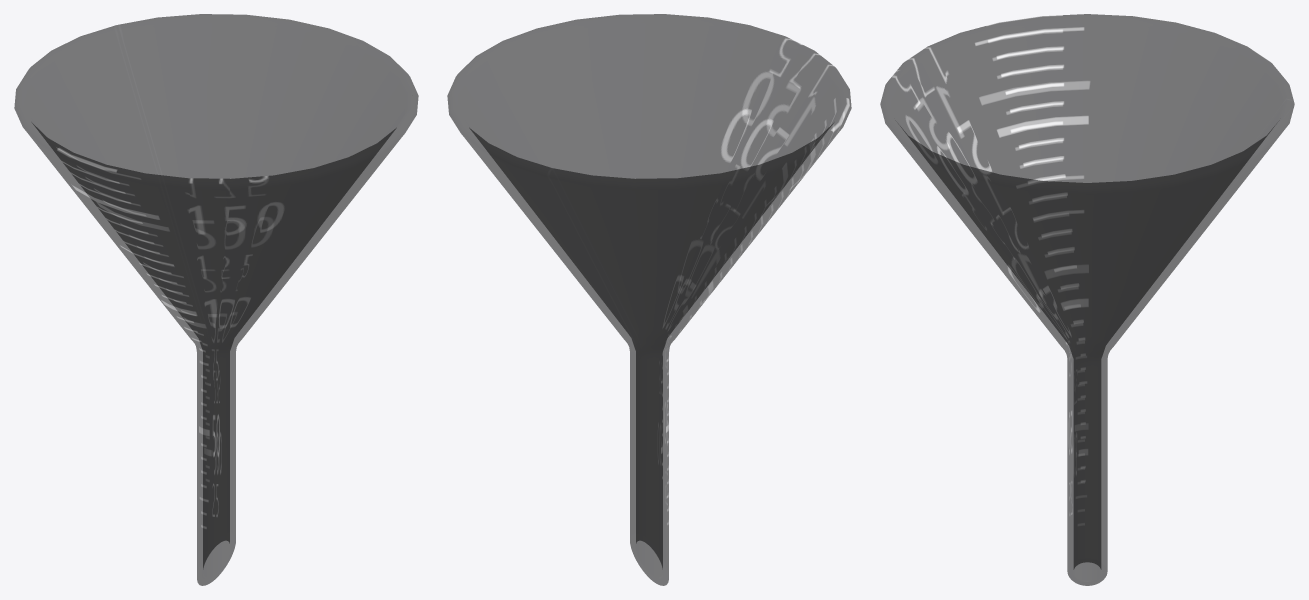
The model's file is Funnel.fbx.
The picture shows the model from 3 angles, left to right: view 1: azimuth 30°, elevation 25°; view 2: azimuth 150°, elevation 25°; view 3: azimuth 270°, elevation 25°; orthographic projection. The views are drawn at different scales.
Visible parts, largest first — view 1: Funnel; view 2: Funnel; view 3: Funnel.
Part boxes in pixels (<box>): Funnel: <box>14,14,418,585</box>; Funnel: <box>447,14,851,585</box>; Funnel: <box>880,14,1294,585</box>.
Size of the model in its own units: 22.69 by 29.89 by 22.69.
